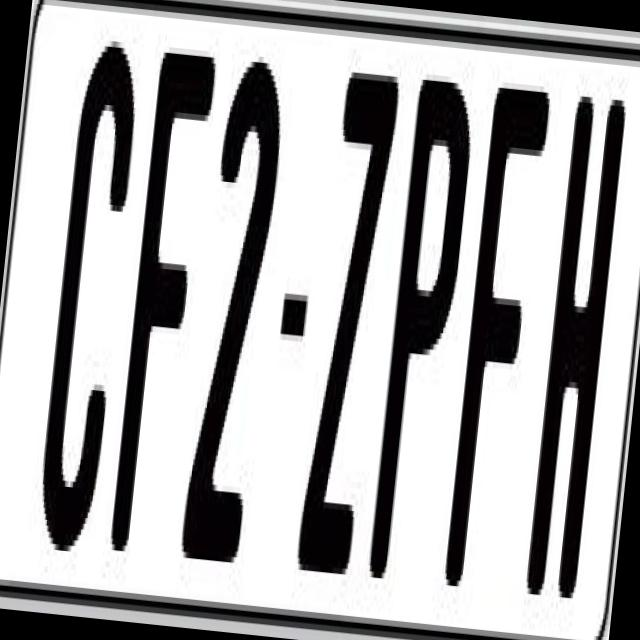2: (177, 48, 290, 574)
C: (32, 32, 149, 554)
F: (442, 70, 556, 608), (103, 45, 218, 568)
H: (524, 90, 628, 610)
P: (362, 67, 479, 600)
Z: (290, 59, 402, 574)
